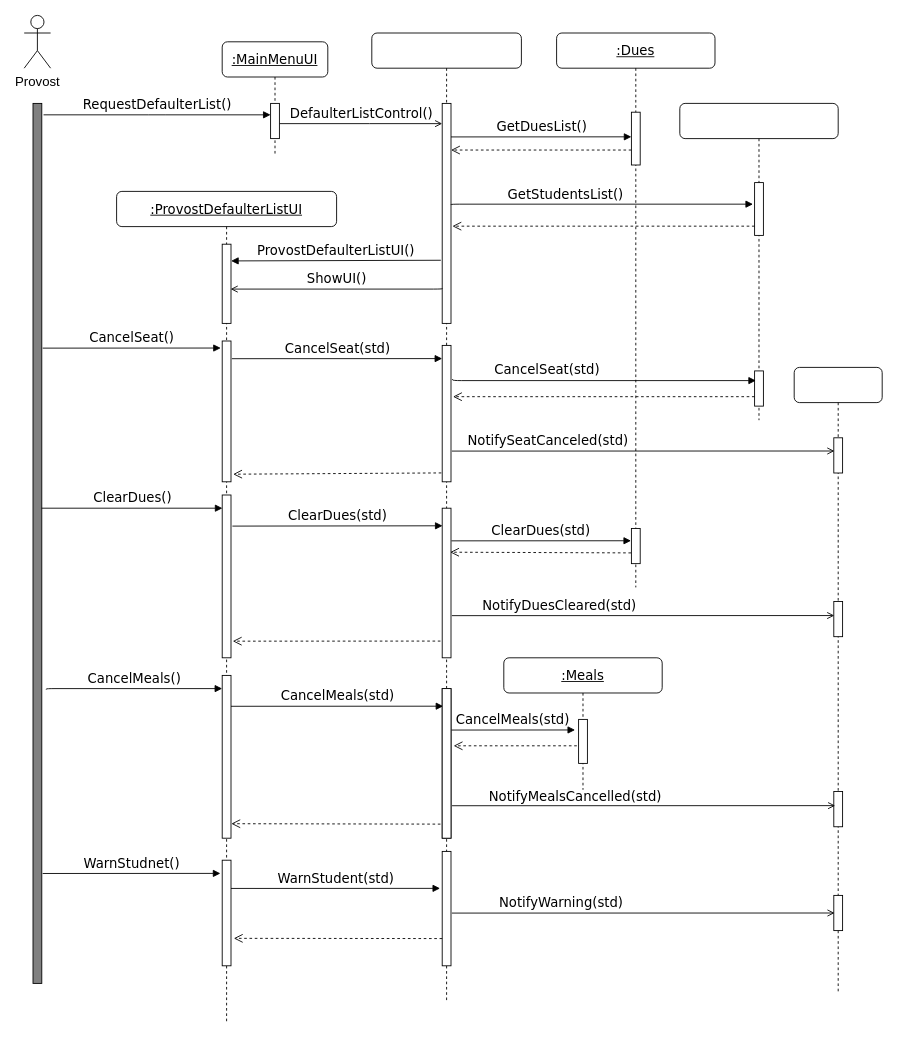
Some shapes in this 898 by 1038 pixel diagram are drawn without their labels. Each missing label, with the box of its shape:
:DefaulterListControl: (371, 32, 521, 1001)
:Notification: (793, 367, 882, 992)
:Students: (679, 103, 838, 420)
